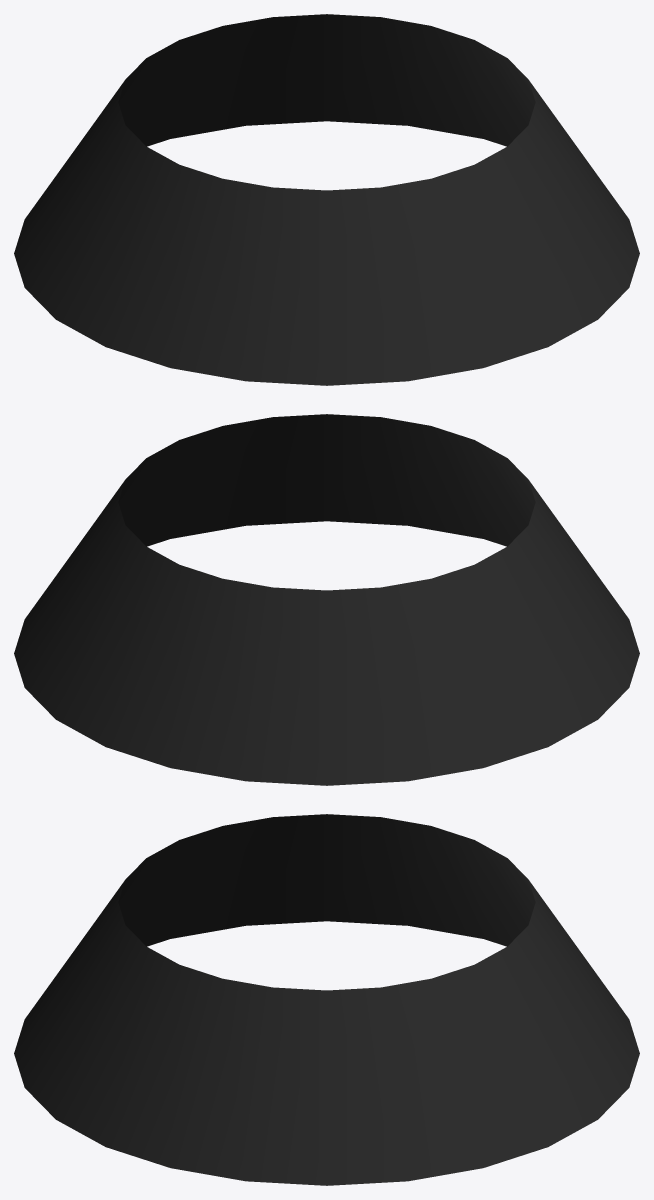
File: tantares_adapter_s0p5_s0_1.obj
3 views of the same model, one above another, from view 1: azimuth 30°, elevation 25°; view 2: azimuth 150°, elevation 25°; view 3: azimuth 270°, elevation 25° (orthographic).
Parts seen in each view (by area): view 1: mesh; view 2: mesh; view 3: mesh.
Boxes of the visible parts, box(x1,y1,x2,y2) form: mesh: box(14, 14, 639, 385); mesh: box(14, 414, 639, 785); mesh: box(14, 814, 639, 1185).
Size of the model in its own units: 0.9375 by 0.25 by 0.9375.
